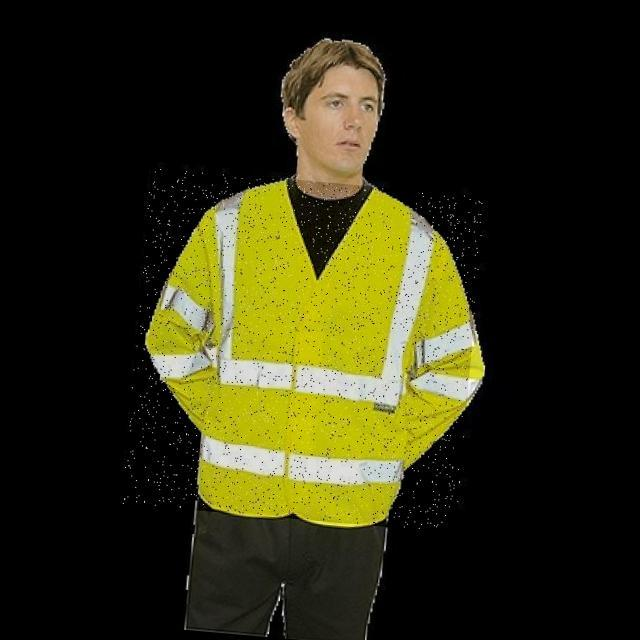Person: (88, 19, 523, 640)
Safety Vest: (122, 167, 485, 533)
no-helmet: (277, 29, 411, 93)
